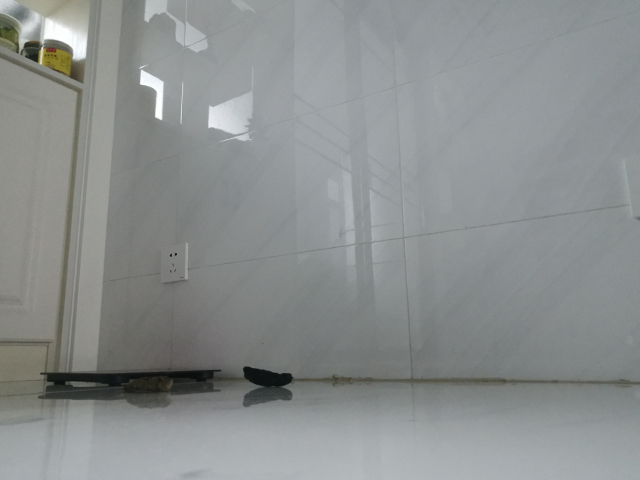cabinet: (1, 1, 103, 394)
feces: (242, 363, 295, 388), (120, 374, 175, 394)
